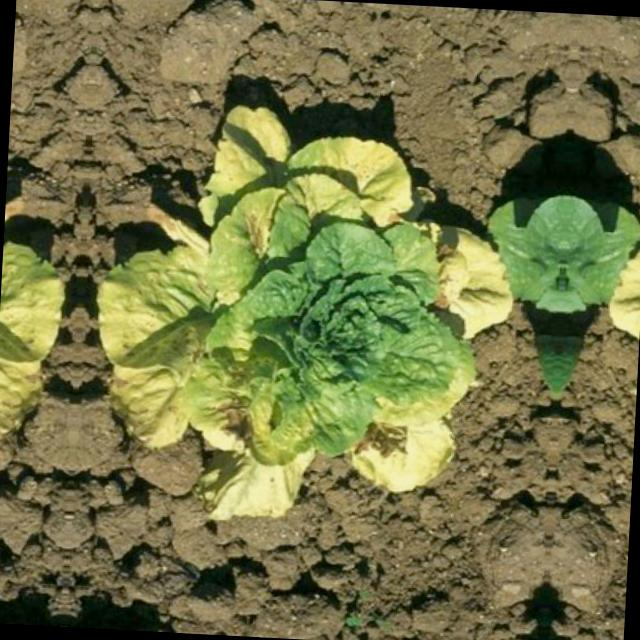healthy: (89, 99, 514, 527), (0, 93, 72, 503), (606, 125, 640, 533)
